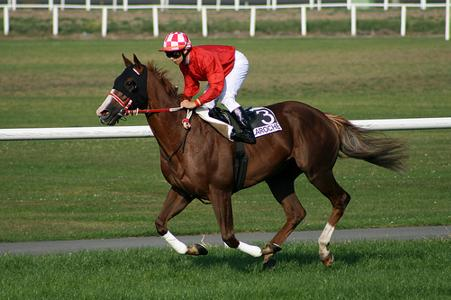person: (158, 29, 258, 146)
